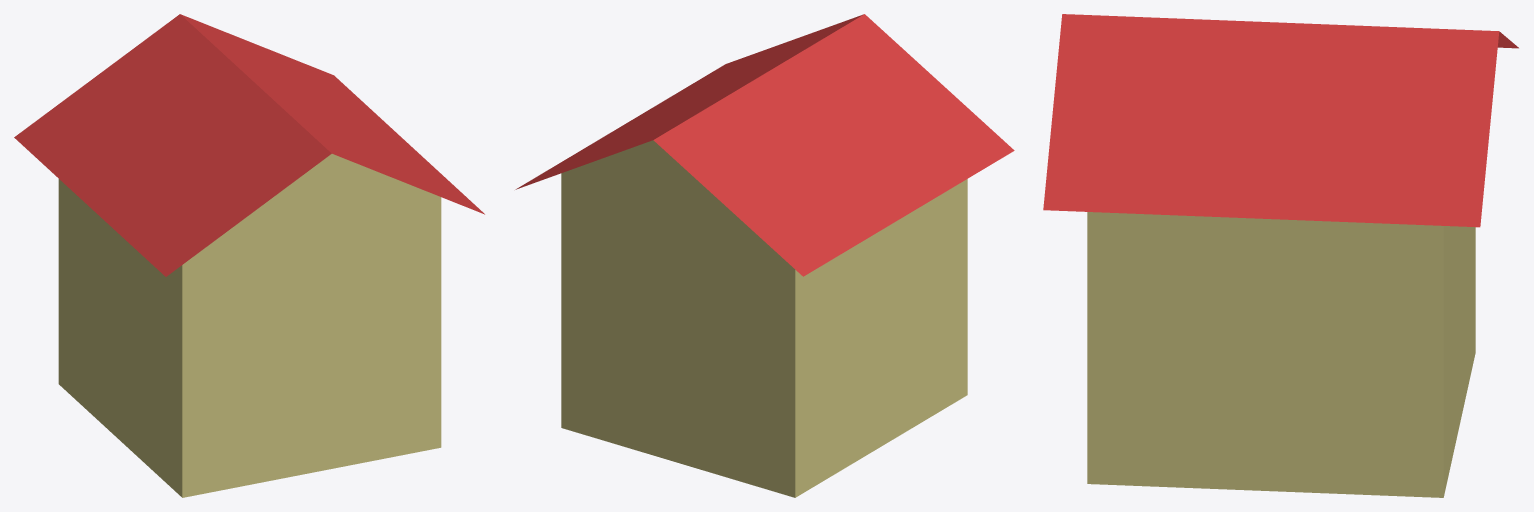
3 renders of one model, left to right at view 1: azimuth 30°, elevation 25°; view 2: azimuth 150°, elevation 25°; view 3: azimuth 270°, elevation 25°, orthographic. The views are drawn at different scales.
Size of the model in its own units: 8.56 by 8.8 by 8.14.
